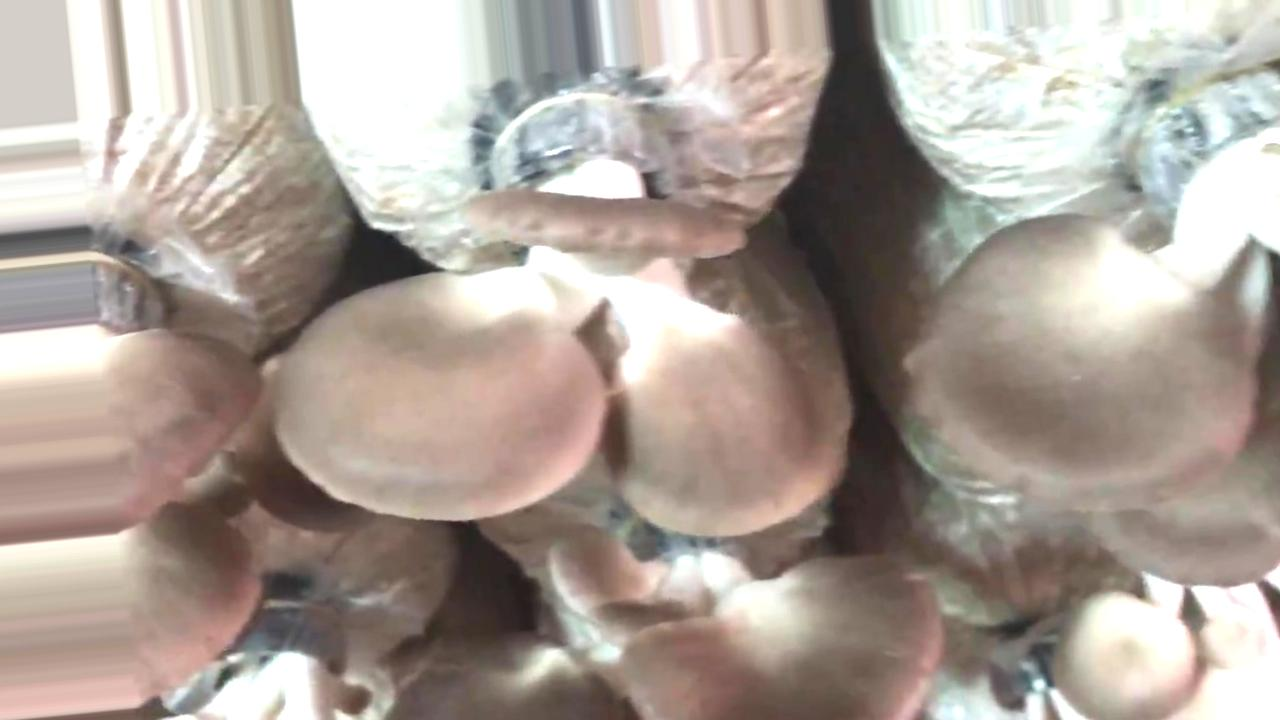nam: (274, 99, 832, 538), (936, 80, 1280, 586), (1, 232, 261, 720), (390, 525, 939, 720), (1059, 589, 1200, 720)
